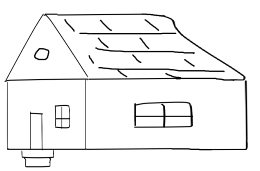big_house: (2, 2, 260, 171)
closed_window: (126, 94, 199, 135), (49, 96, 75, 133)
door: (25, 104, 50, 152)
roof: (2, 11, 253, 87)
wall: (80, 72, 250, 158)
